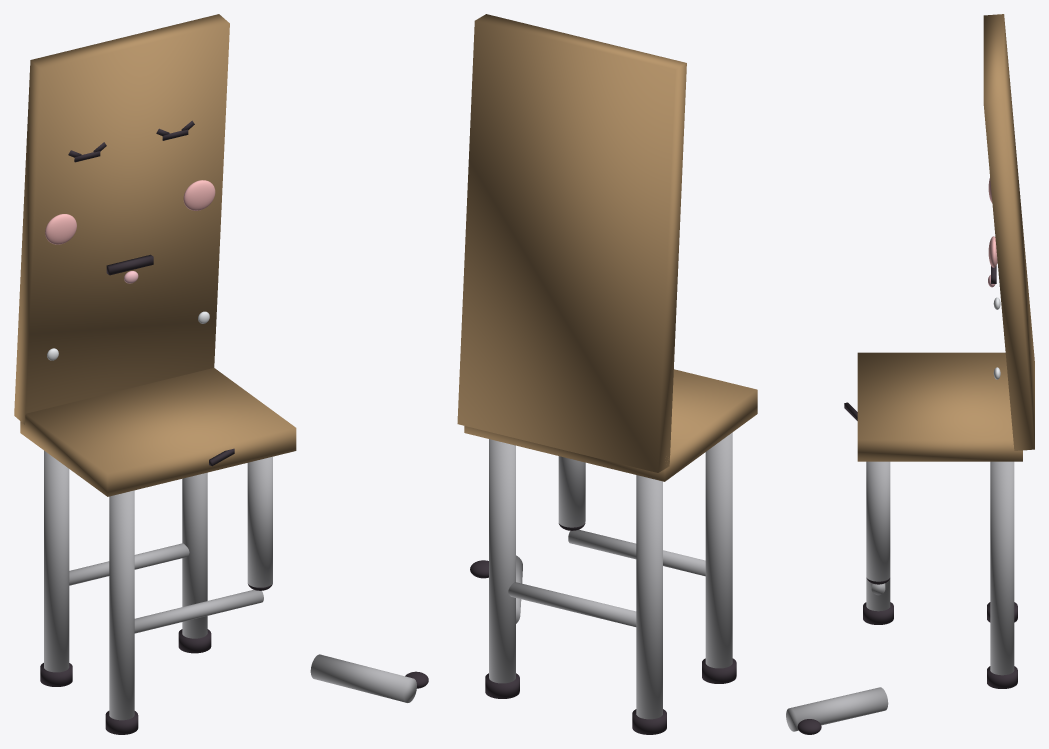
File: chair.glb
3 views of the same model, side by side, from view 1: azimuth 30°, elevation 25°; view 2: azimuth 150°, elevation 25°; view 3: azimuth 270°, elevation 25° (orthographic). The views are drawn at different scales.
Visible parts, largest first — view 1: Backrest, Seat, Leg_LF, Leg_LB, Leg_RB, Leg_RF, BrokenPiece, Brace_F, Brace_B, Cheek_L, Cheek_R; view 2: Backrest, Seat, Leg_LB, Leg_RB, Leg_LF, Brace_B, Leg_RF, Brace_F, Foot_LF, Foot_LB, Foot_RB; view 3: Seat, Backrest, Leg_RB, Leg_RF, BrokenPiece, Leg_LF, Foot_LF, Foot_RB.
Part boxes in pixels (x1,y1,x2,y2): Backrest: (14,14,229,424); Seat: (20,368,296,496); Leg_LF: (109,490,134,720); Leg_LB: (44,450,69,672); Leg_RB: (182,472,207,638); Leg_RF: (247,456,272,587); BrokenPiece: (310,654,416,702); Brace_F: (134,589,263,633); Brace_B: (69,543,189,585); Cheek_L: (45,214,76,244); Cheek_R: (183,180,215,210); Backrest: (457,14,686,472); Seat: (464,369,757,481); Leg_LB: (636,475,662,719); Leg_RB: (489,439,515,683); Leg_LF: (705,432,732,668); Brace_B: (508,582,636,626); Leg_RF: (558,456,585,527); Brace_F: (568,529,705,576); Foot_LF: (702,658,736,683); Foot_LB: (632,709,666,734); Foot_RB: (485,673,519,698); Seat: (857,352,1022,461); Backrest: (983,14,1034,450); Leg_RB: (990,461,1014,675); Leg_RF: (866,461,890,581); BrokenPiece: (786,687,888,731); Leg_LF: (866,577,890,611); Foot_LF: (863,602,893,624); Foot_RB: (987,666,1017,688).
Bounding box in the file's own units: 0.935 × 1.9 × 0.7231.
